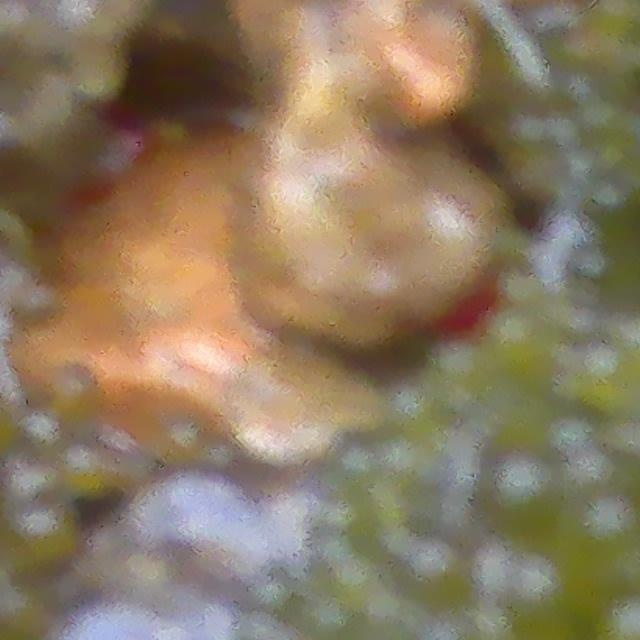SeaGrape: (477, 447, 561, 528), (567, 505, 640, 580), (570, 346, 640, 413)
